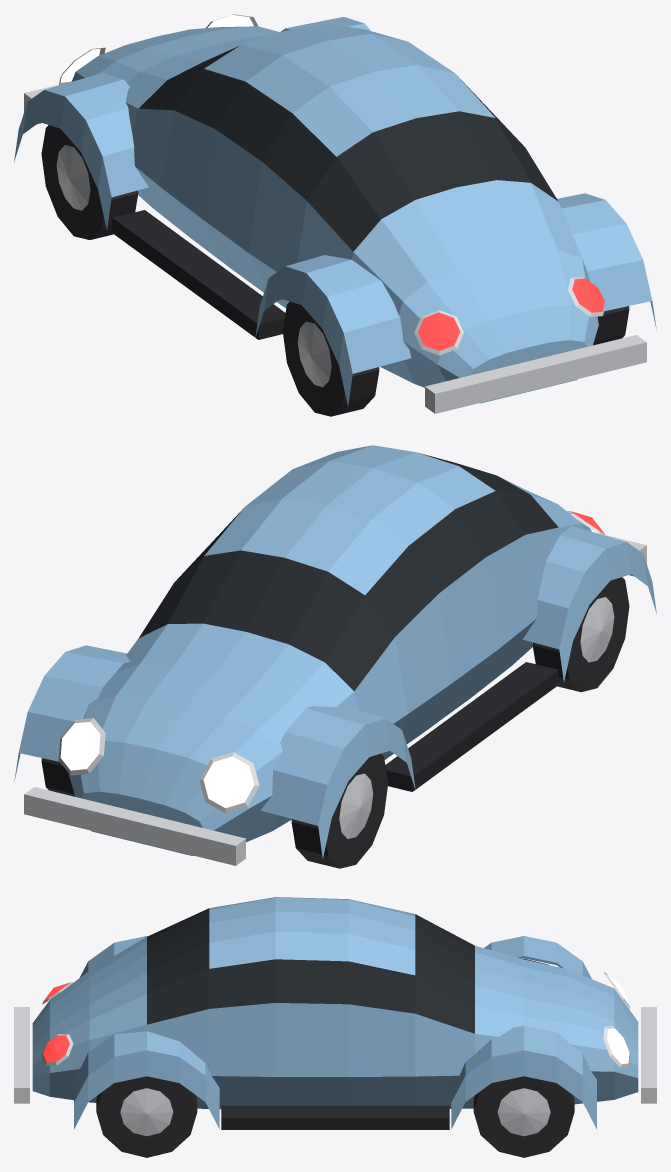
File: car4.glb
The picture shows the model from 3 angles, top to bottom: view 1: azimuth 30°, elevation 25°; view 2: azimuth 150°, elevation 25°; view 3: azimuth 270°, elevation 25°; orthographic projection. The views are drawn at different scales.
Parts seen in each view (by area): view 1: Body, Wheel_RL, Wheel_FL, Wheel_RR; view 2: Body, Wheel_FL, Wheel_RL, Wheel_FR; view 3: Body, Wheel_FR, Wheel_RR.
Part boxes in pixels (x1=…): Body: x1=14, y1=14, x2=656, y2=413; Wheel_RL: x1=282, y1=301, x2=379, y2=416; Wheel_FL: x1=41, y1=125, x2=138, y2=239; Wheel_RR: x1=593, y1=306, x2=629, y2=345; Body: x1=14, y1=445, x2=656, y2=865; Wheel_FL: x1=291, y1=753, x2=388, y2=868; Wheel_RL: x1=532, y1=577, x2=629, y2=692; Wheel_FR: x1=41, y1=758, x2=75, y2=796; Body: x1=14, y1=897, x2=656, y2=1129; Wheel_FR: x1=473, y1=1076, x2=574, y2=1157; Wheel_RR: x1=96, y1=1076, x2=197, y2=1157.
Bounding box in the file's own units: 2.1 × 1.6 × 4.84.
